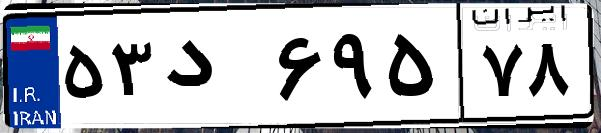3: (110, 28, 158, 98)
5: (385, 28, 445, 110), (57, 26, 110, 100)
6: (270, 28, 330, 110)
7: (475, 38, 525, 113)
8: (525, 38, 570, 115)
9: (330, 28, 385, 110)
د: (158, 20, 270, 120)
